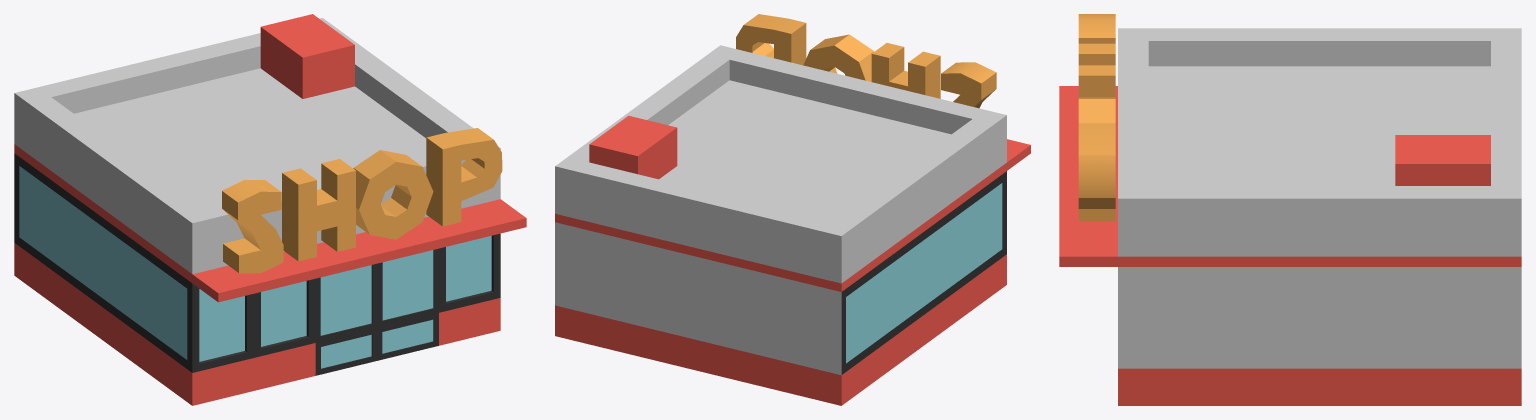
The model's file is shop.fbx.
3 views of the same model, side by side, from view 1: azimuth 30°, elevation 25°; view 2: azimuth 150°, elevation 25°; view 3: azimuth 270°, elevation 25° (orthographic). The views are drawn at different scales.
Parts seen in each view (by area): view 1: магаз; view 2: магаз; view 3: магаз.
Boxes of the visible parts, left/top/right/bottom form: магаз: left=14, top=14, right=526, bottom=405; магаз: left=555, top=14, right=1030, bottom=405; магаз: left=1059, top=14, right=1521, bottom=405.
Bounding box in the file's own units: 200 × 133 × 229.
